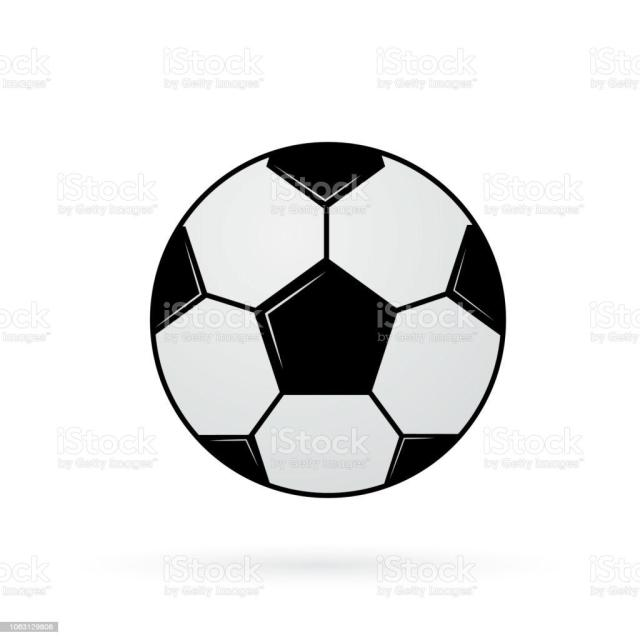Soccer Ball: (151, 144, 508, 497)
